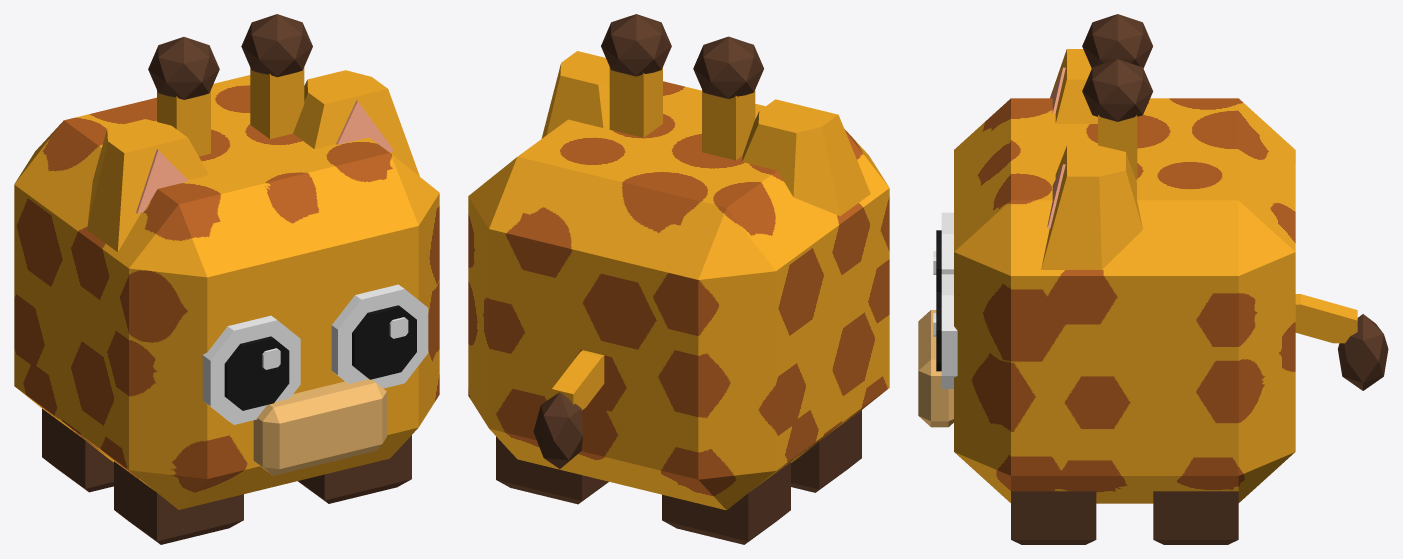
Rendered from Giraffe.fbx.
3 renders of one model, left to right at view 1: azimuth 30°, elevation 25°; view 2: azimuth 150°, elevation 25°; view 3: azimuth 270°, elevation 25°, orthographic.
Visible parts, largest first — view 1: Giraffe, Giraffe_Ears, Giraffe_Hooves, Giraffe_Snout, Giraffe_Eyes, Giraffe_Pupils, Giraffe_Knobs, Giraffe_Horns, Giraffe_EarInner; view 2: Giraffe, Giraffe_Ears, Giraffe_Hooves, Giraffe_Knobs, Giraffe_Horns, Giraffe_Tuft, Giraffe_Tail; view 3: Giraffe, Giraffe_Ears, Giraffe_Hooves, Giraffe_Knobs, Giraffe_Snout, Giraffe_Eyes, Giraffe_Tuft, Giraffe_Tail, Giraffe_Horns, Giraffe_Pupils, Giraffe_EarInner.
Boxes of the visible parts, bbox=[...] form: Giraffe: bbox=[14, 75, 439, 509]; Giraffe_Ears: bbox=[87, 70, 419, 251]; Giraffe_Hooves: bbox=[42, 409, 411, 544]; Giraffe_Snout: bbox=[253, 379, 386, 475]; Giraffe_Eyes: bbox=[202, 284, 428, 424]; Giraffe_Pupils: bbox=[224, 305, 416, 410]; Giraffe_Knobs: bbox=[148, 14, 312, 99]; Giraffe_Horns: bbox=[157, 67, 304, 156]; Giraffe_EarInner: bbox=[136, 100, 393, 213]; Giraffe: bbox=[468, 81, 889, 510]; Giraffe_Ears: bbox=[541, 51, 870, 215]; Giraffe_Hooves: bbox=[496, 410, 861, 544]; Giraffe_Knobs: bbox=[601, 14, 763, 99]; Giraffe_Horns: bbox=[609, 67, 755, 160]; Giraffe_Tuft: bbox=[533, 392, 582, 468]; Giraffe_Tail: bbox=[552, 350, 604, 410]; Giraffe: bbox=[954, 98, 1295, 503]; Giraffe_Ears: bbox=[1041, 49, 1142, 269]; Giraffe_Hooves: bbox=[1011, 491, 1238, 544]; Giraffe_Knobs: bbox=[1082, 14, 1153, 121]; Giraffe_Snout: bbox=[918, 310, 953, 427]; Giraffe_Eyes: bbox=[933, 212, 957, 388]; Giraffe_Tuft: bbox=[1338, 314, 1388, 390]; Giraffe_Tail: bbox=[1295, 294, 1357, 343]; Giraffe_Horns: bbox=[1098, 115, 1137, 180]; Giraffe_Pupils: bbox=[936, 230, 941, 371]; Giraffe_EarInner: bbox=[1047, 67, 1065, 228].
Bounding box in the file's own units: 2 × 2.8 × 2.64.
11 materials, 1 textured.
